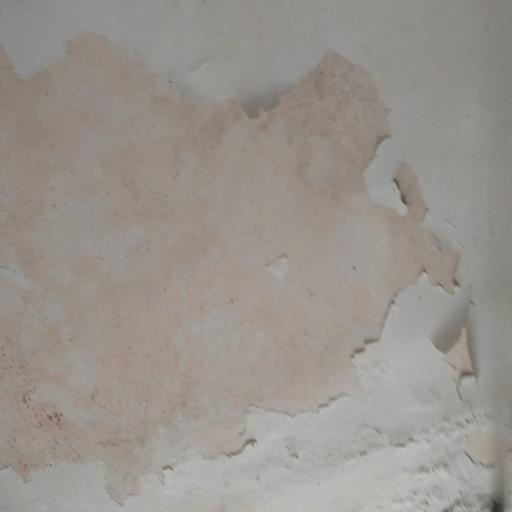peeling: (4, 28, 490, 512)
